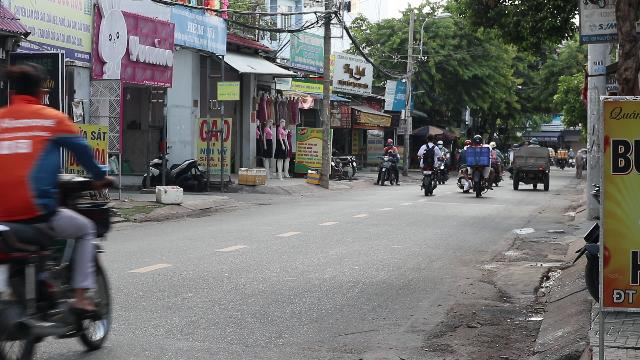motorcyclist: (1, 57, 117, 358)
nohelmet: (0, 62, 48, 106)
